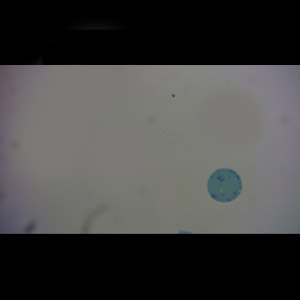aggregate reticulocyte: (207, 168, 243, 203)
